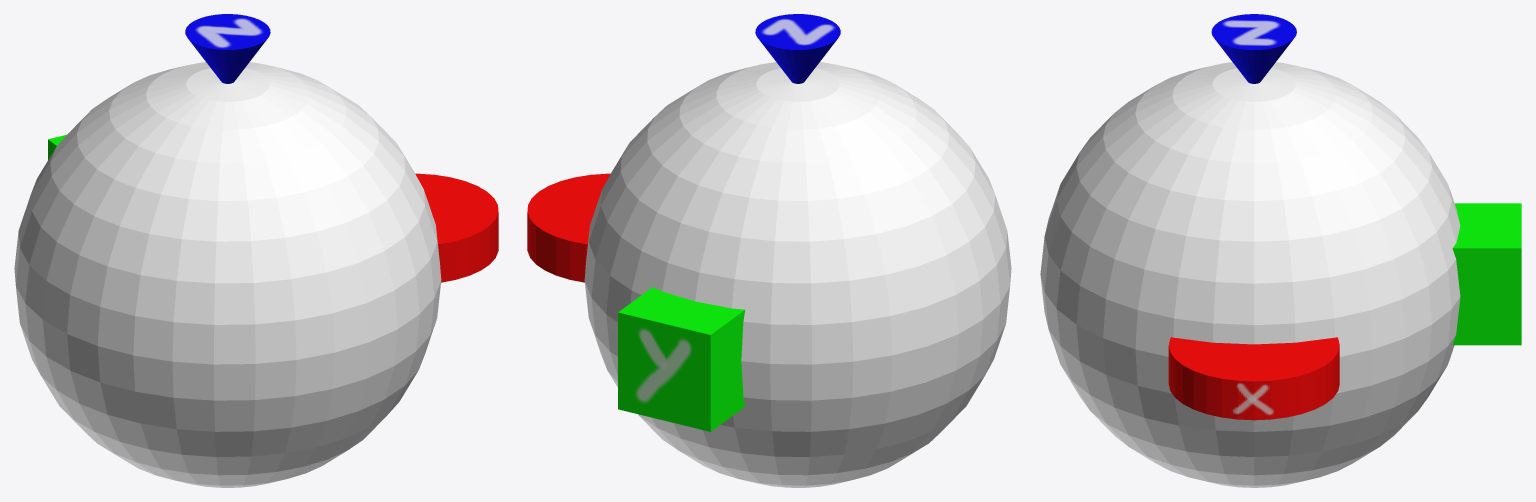
The picture shows the model from 3 angles, left to right: view 1: azimuth 30°, elevation 25°; view 2: azimuth 150°, elevation 25°; view 3: azimuth 270°, elevation 25°; orthographic projection.
Visible parts, largest first — view 1: Sphere, Cylinder, Cone; view 2: Sphere, Cube, Cylinder, Cone; view 3: Sphere, Cylinder, Cube, Cone.
Part boxes in pixels (<box>): Sphere: <box>14,62,441,487</box>; Cylinder: <box>415,173,498,282</box>; Cone: <box>185,14,270,83</box>; Sphere: <box>584,62,1011,487</box>; Cube: <box>618,287,745,431</box>; Cylinder: <box>527,173,610,282</box>; Cone: <box>755,14,840,83</box>; Sphere: <box>1040,62,1460,487</box>; Cylinder: <box>1168,337,1339,420</box>; Cube: <box>1452,203,1521,345</box>; Cone: <box>1211,14,1296,83</box>.
Size of the model in its own units: 24 by 22.5 by 22.5.
Materials: 4 (4 with a texture image).
